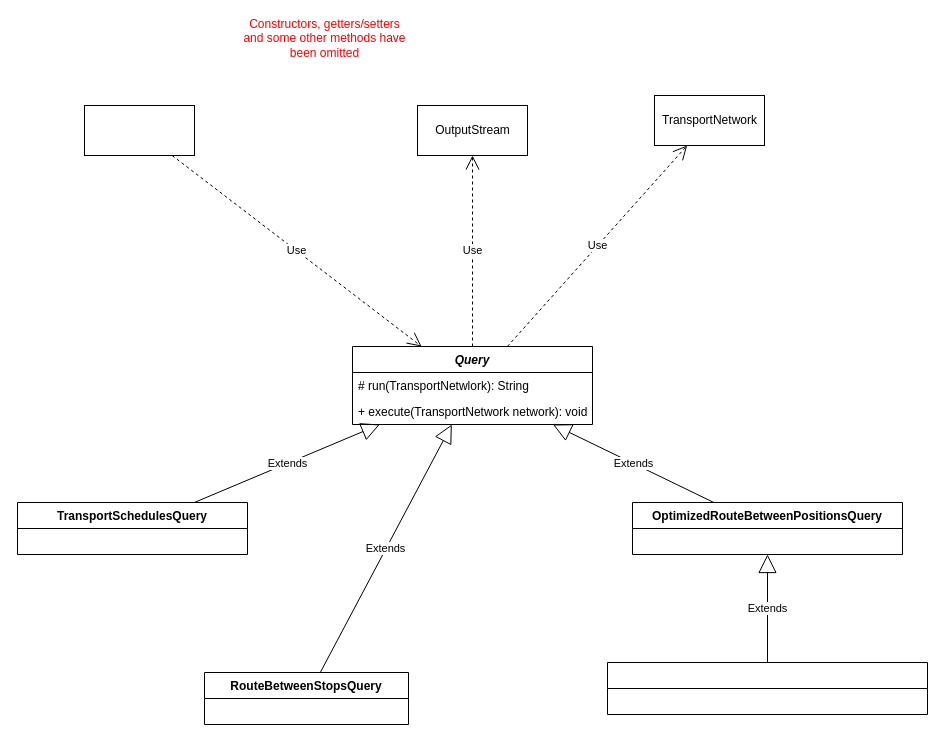
Some shapes in this 945 by 742 pixel diagram are drawn without their labels. The shapes that lost their labels are listed below. From the top down, each one's box as (x1, y1, x2, y2) in pixels, then its label:
(84, 104, 194, 156): Main
(606, 662, 928, 714): OptimizedRouteBetweenPositionsWithWalkQuery
